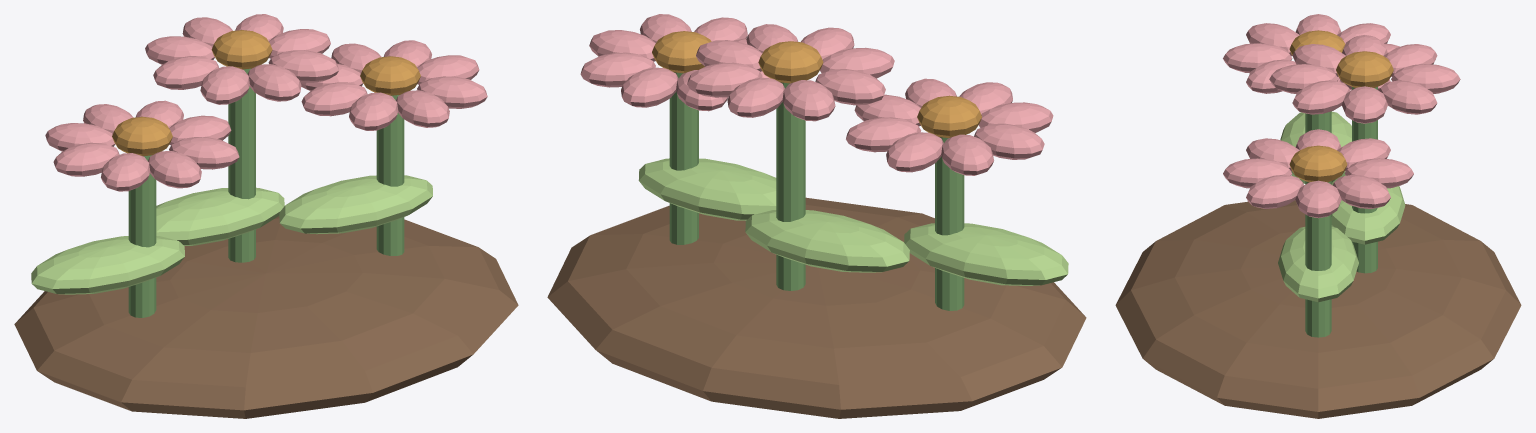
Rendered from Flower2.fbx.
3 views of the same model, side by side, from view 1: azimuth 30°, elevation 25°; view 2: azimuth 150°, elevation 25°; view 3: azimuth 270°, elevation 25° (orthographic). The views are drawn at different scales.
Visible parts, largest first — view 1: Worksite soil bed.008, Wide leaf.002, Wide leaf, Wide leaf.001, Flower stalk.001, Flower stalk, Flower stalk.002, Pollen disk.001, Pollen disk, Pollen disk.002, Colored petal.004, Colored petal.012 (+22 smaller); view 2: Worksite soil bed.008, Wide leaf.001, Wide leaf, Wide leaf.002, Flower stalk.001, Flower stalk, Flower stalk.002, Pollen disk.001, Pollen disk, Colored petal.004, Colored petal.012, Colored petal.018 (+20 smaller); view 3: Worksite soil bed.008, Wide leaf.002, Flower stalk.002, Wide leaf.001, Pollen disk.002, Pollen disk.001, Colored petal.009, Colored petal.015, Colored petal.017, Colored petal.023, Colored petal.008, Colored petal.006 (+19 smaller).
Part boxes in pixels (x1,y1,x2,y2): Worksite soil bed.008: [14, 216, 518, 418]; Wide leaf.002: [279, 175, 432, 234]; Wide leaf: [31, 236, 184, 294]; Wide leaf.001: [156, 187, 284, 245]; Flower stalk.001: [228, 68, 255, 262]; Flower stalk: [128, 155, 156, 317]; Flower stalk.002: [376, 95, 404, 255]; Pollen disk.001: [211, 30, 272, 69]; Pollen disk: [112, 116, 172, 156]; Pollen disk.002: [360, 56, 420, 95]; Colored petal.004: [53, 142, 119, 176]; Colored petal.012: [153, 56, 218, 89]; Worksite soil bed.008: [547, 197, 1086, 418]; Wide leaf.001: [745, 210, 909, 272]; Wide leaf: [904, 223, 1068, 285]; Wide leaf.002: [638, 158, 776, 220]; Flower stalk.001: [776, 82, 805, 290]; Flower stalk: [935, 137, 964, 310]; Flower stalk.002: [669, 72, 698, 244]; Pollen disk.001: [758, 41, 823, 83]; Pollen disk: [917, 95, 981, 137]; Colored petal.004: [974, 123, 1044, 159]; Colored petal.012: [815, 69, 885, 105]; Colored petal.018: [621, 67, 678, 107]; Worksite soil bed.008: [1115, 200, 1521, 418]; Wide leaf.002: [1278, 227, 1358, 302]; Flower stalk.002: [1305, 181, 1331, 337]; Wide leaf.001: [1331, 171, 1405, 244]; Pollen disk.002: [1289, 145, 1347, 182]; Pollen disk.001: [1336, 51, 1393, 87]; Colored petal.009: [1379, 80, 1437, 114]; Colored petal.015: [1292, 80, 1350, 114]; Colored petal.017: [1333, 174, 1390, 208]; Colored petal.023: [1246, 174, 1303, 208]; Colored petal.008: [1342, 86, 1387, 123]; Colored petal.006: [1223, 43, 1292, 73].
Bounding box in the file's own units: 176 × 110 × 140.
